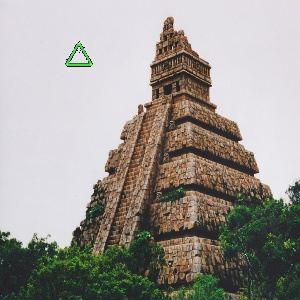triangle: (63, 37, 95, 70)
